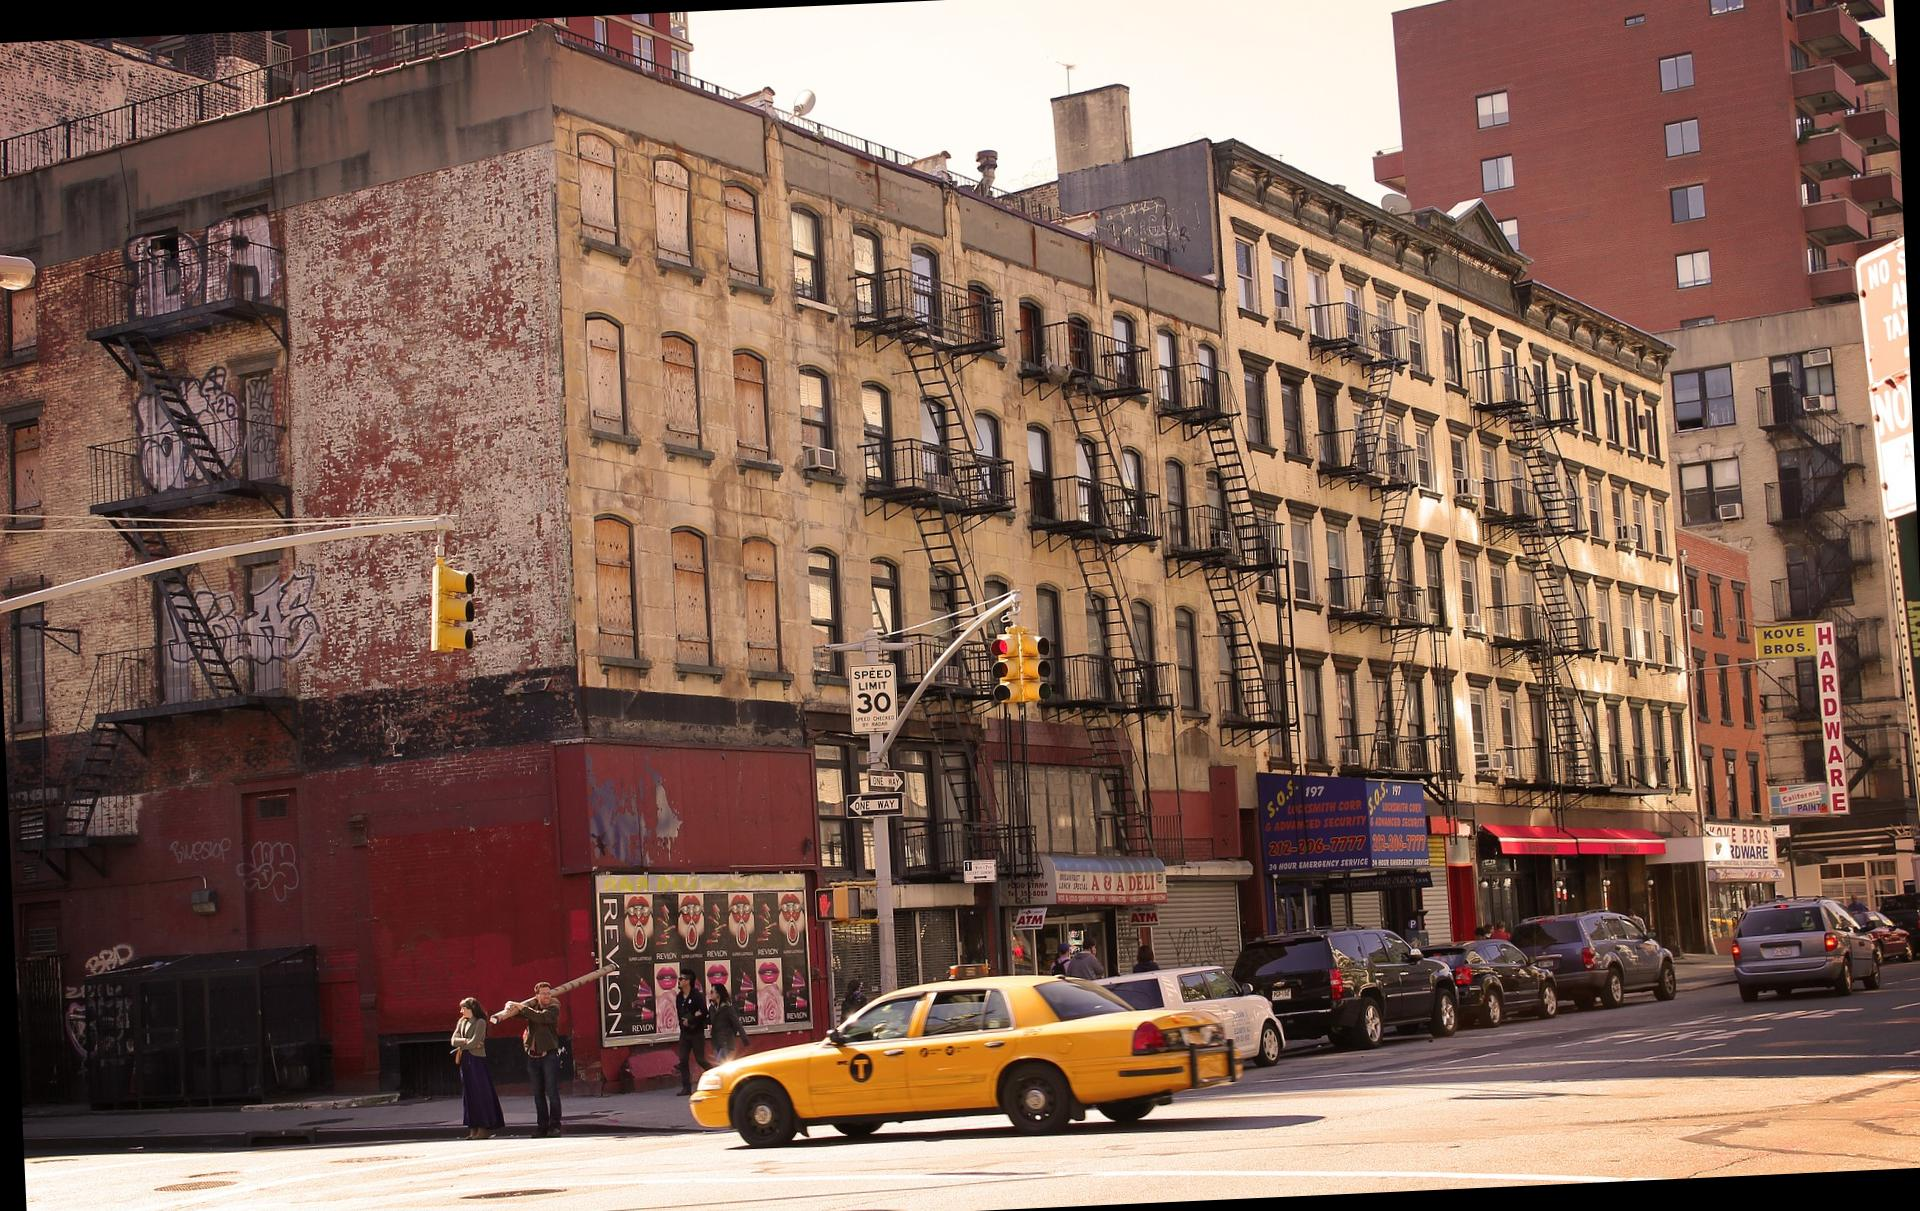taxi: (682, 986, 1253, 1166)
